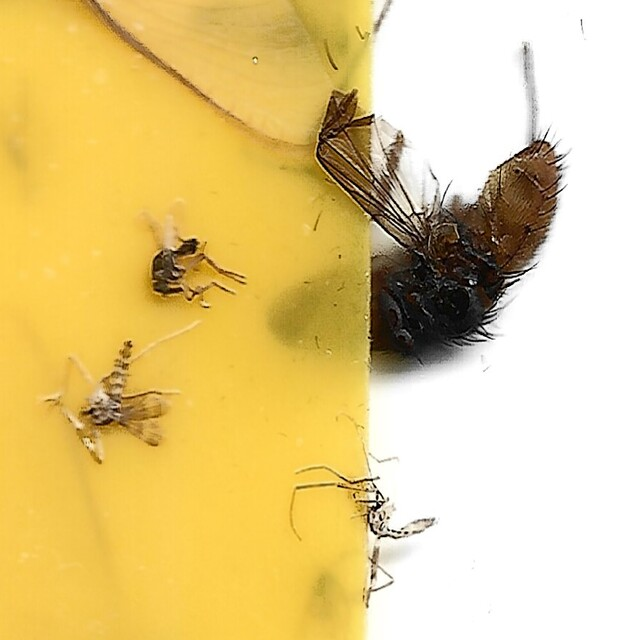Brachycera: (313, 94, 568, 367), (143, 220, 220, 308)
Nematocera: (72, 337, 174, 458), (360, 486, 438, 546)
